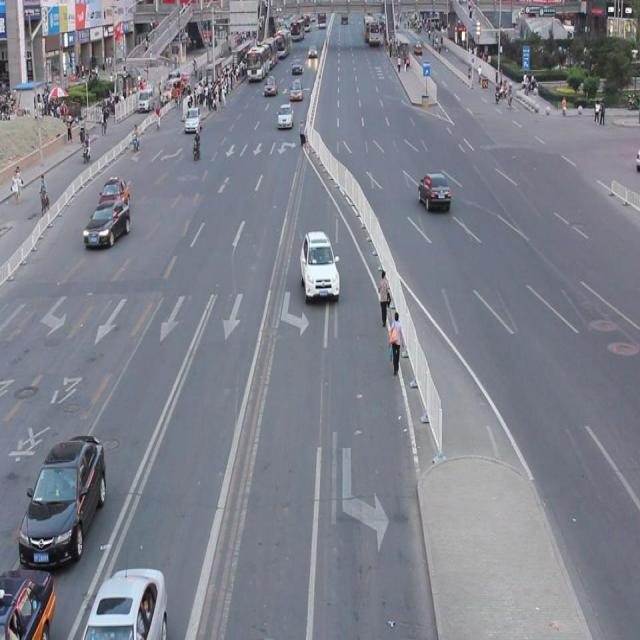car: (18, 431, 106, 569), (82, 562, 168, 640), (1, 565, 56, 640), (298, 229, 339, 302), (83, 198, 130, 248), (97, 176, 131, 215), (417, 171, 450, 211)
